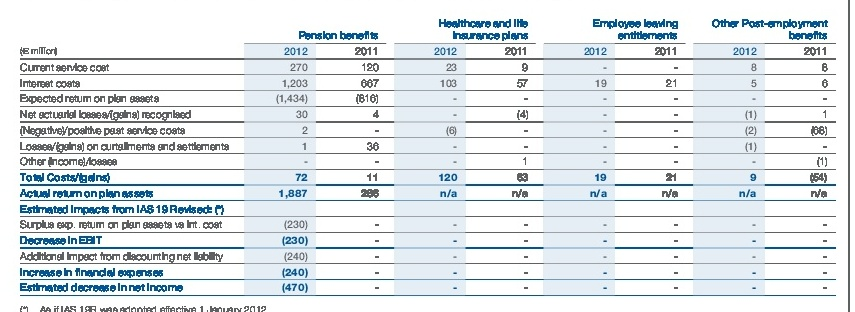table: (0, 0, 855, 312)
